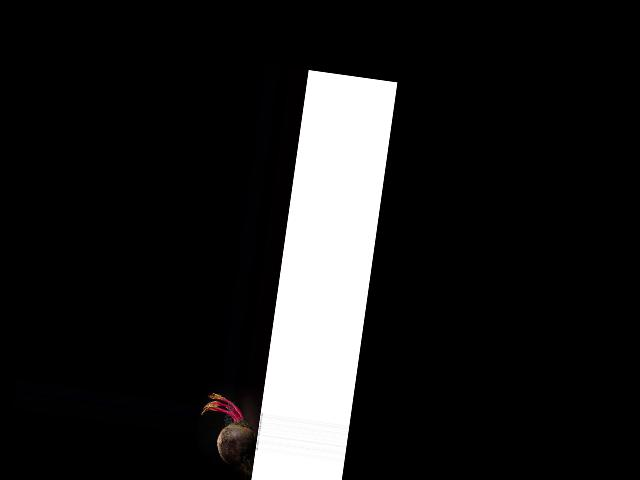beet: (193, 392, 262, 478)
